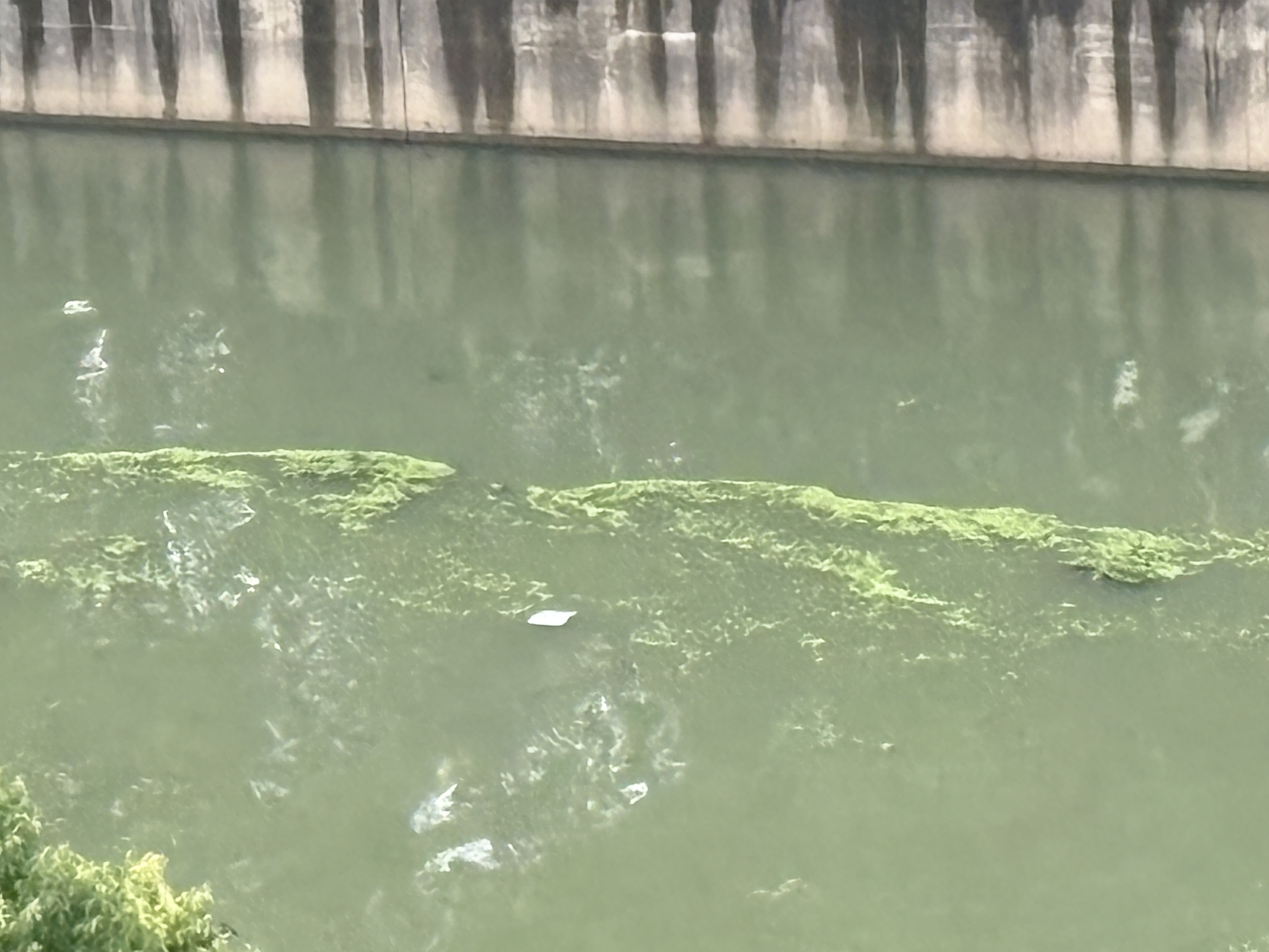Other: (546, 472, 1200, 587), (45, 451, 447, 524)
Plastic wastes: (522, 601, 577, 632)
